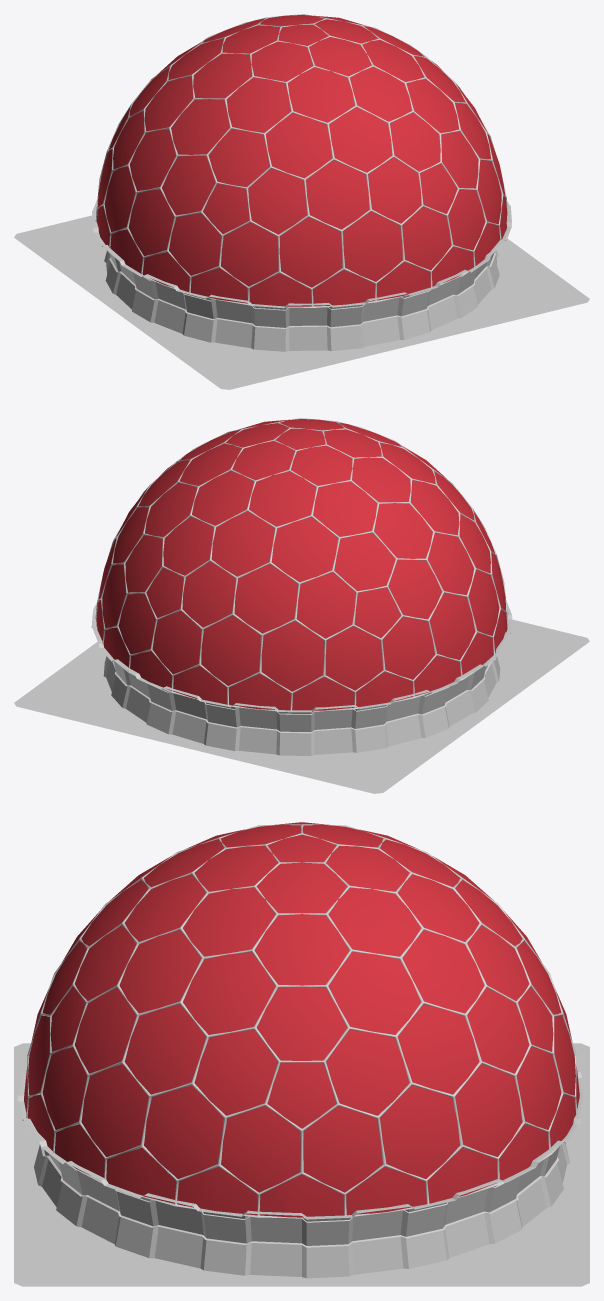
Rendered from DOMELOBBYlo3.fbx.
The picture shows the model from 3 angles, top to bottom: view 1: azimuth 30°, elevation 25°; view 2: azimuth 150°, elevation 25°; view 3: azimuth 270°, elevation 25°; orthographic projection. The views are drawn at different scales.
Visible parts, largest first — view 1: Cube.017; view 2: Cube.017; view 3: Cube.017.
Part boxes in pixels (x1=…): Cube.017: x1=14, y1=14, x2=589, y2=389; Cube.017: x1=14, y1=418, x2=589, y2=793; Cube.017: x1=14, y1=822, x2=589, y2=1286.
Size of the model in its own units: 888 by 567 by 888.
